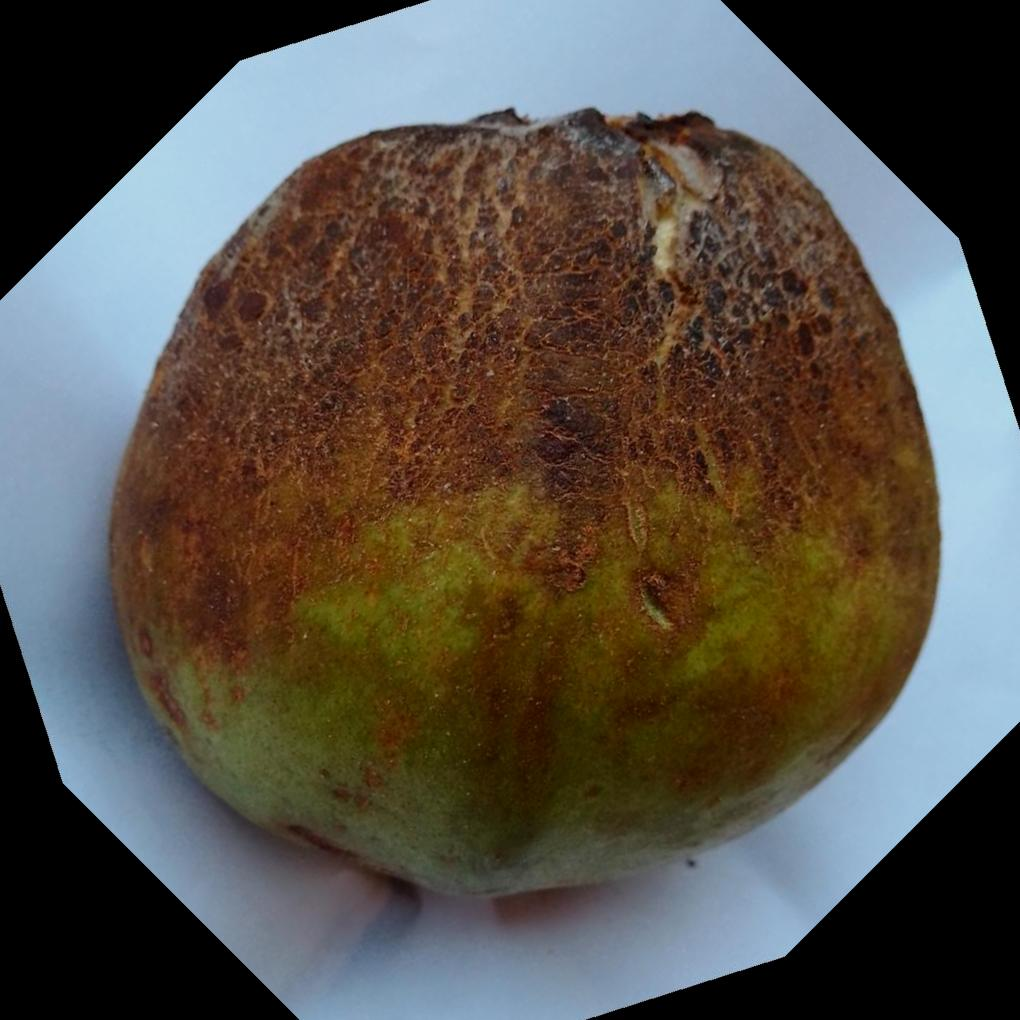FreshOrange: (102, 103, 941, 898)
